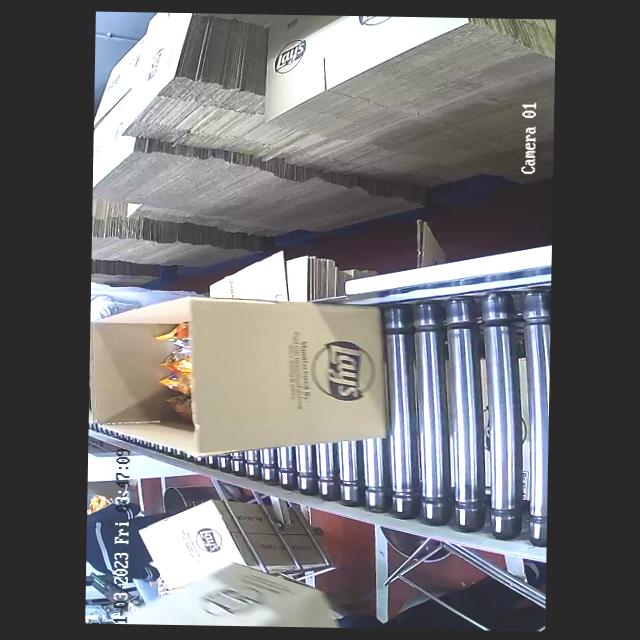cheese: (117, 312, 202, 430)
